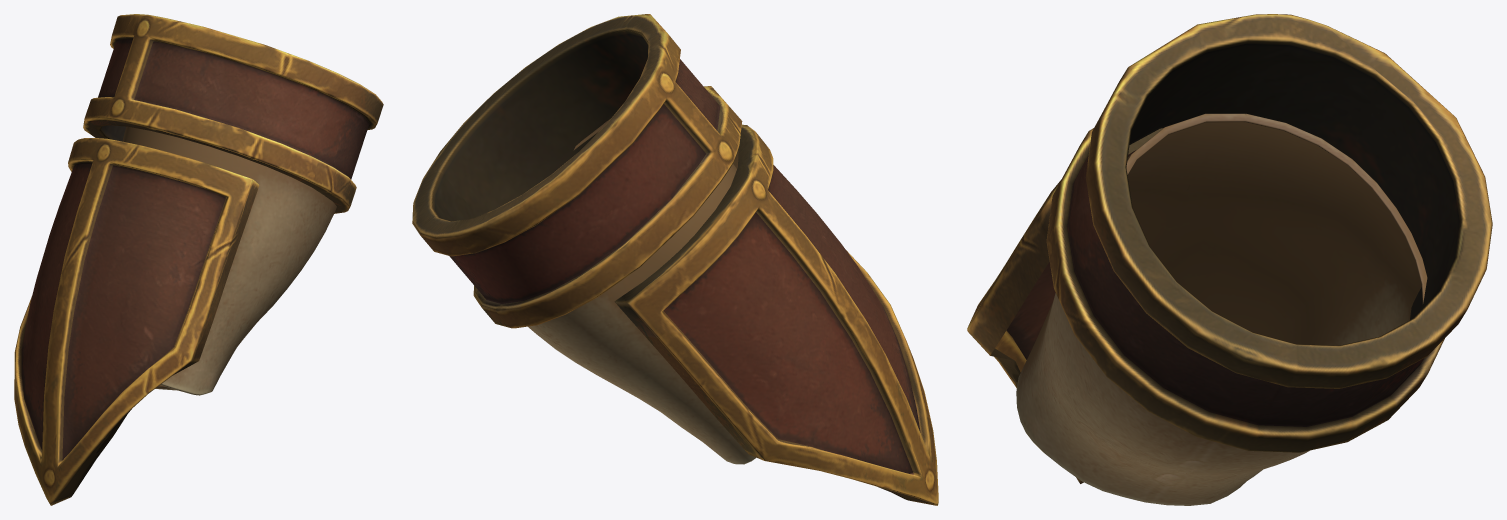
Rendered from sm_armor_dhodin_human_hands_add.gltf.
The picture shows the model from 3 angles, left to right: view 1: azimuth 30°, elevation 25°; view 2: azimuth 150°, elevation 25°; view 3: azimuth 270°, elevation 25°; orthographic projection. The views are drawn at different scales.
Visible parts, largest first — view 1: sm_armor_dhodin_human_hands_add_d; view 2: sm_armor_dhodin_human_hands_add_d; view 3: sm_armor_dhodin_human_hands_add_d.
Boxes of the visible parts, <box> form: sm_armor_dhodin_human_hands_add_d: <box>14,14,383,505</box>; sm_armor_dhodin_human_hands_add_d: <box>412,14,938,505</box>; sm_armor_dhodin_human_hands_add_d: <box>967,14,1492,505</box>.
Bounding box in the file's own units: 0.3019 × 0.3044 × 0.248.
Materials: 1 (1 with a texture image).
